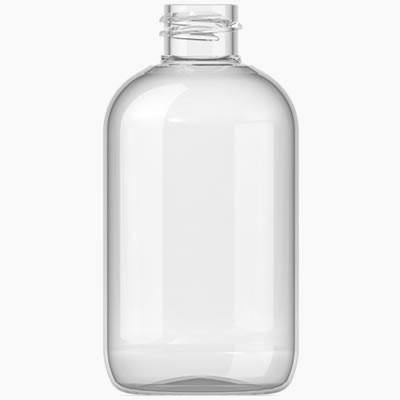emptybottle: (104, 3, 297, 395)
